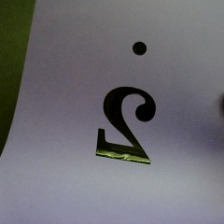violet2: (92, 39, 166, 171)
